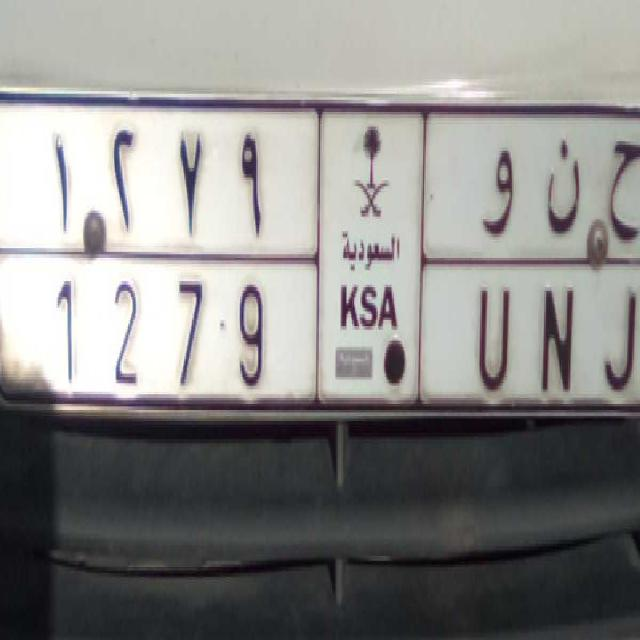license_plate: (21, 253, 640, 426)
